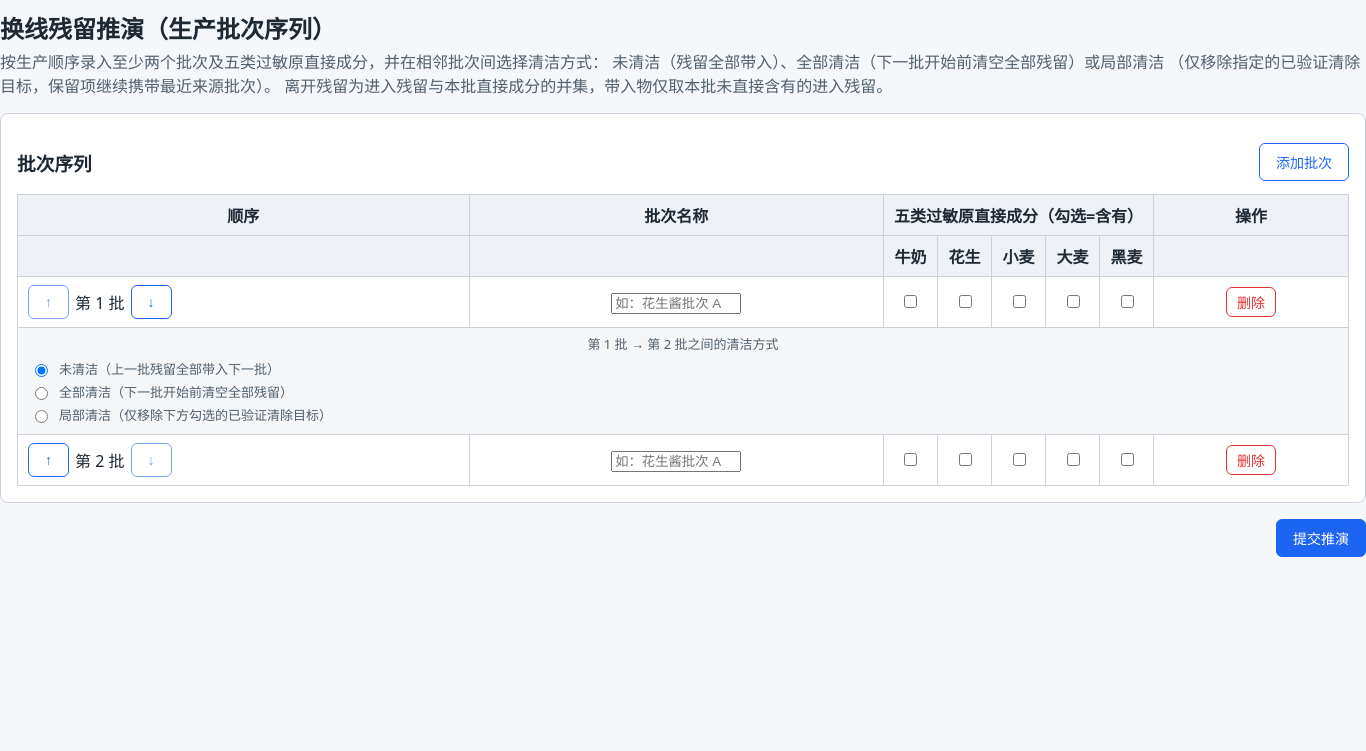
Test: 换线残留推演：提交与逐批结果 › 清洁归零：经验证清洁后后续批次不再显示任何残留
Type "花生酱A" into the field with test id "co-batch-0-name" at {"x": 676, "y": 303}, box [611, 293, 741, 314]
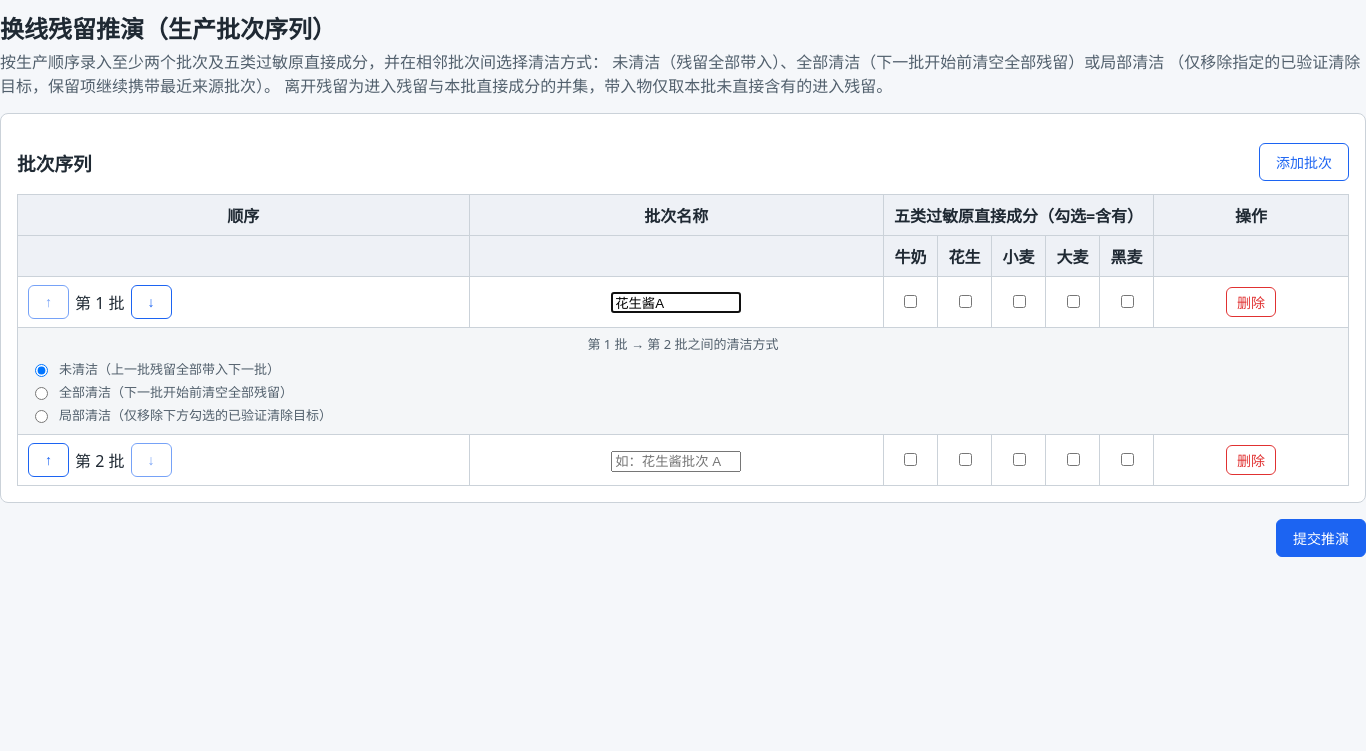
Click the checkbox with test id "co-batch-0-contains-peanut" at {"x": 965, "y": 302}, box [958, 295, 972, 308]
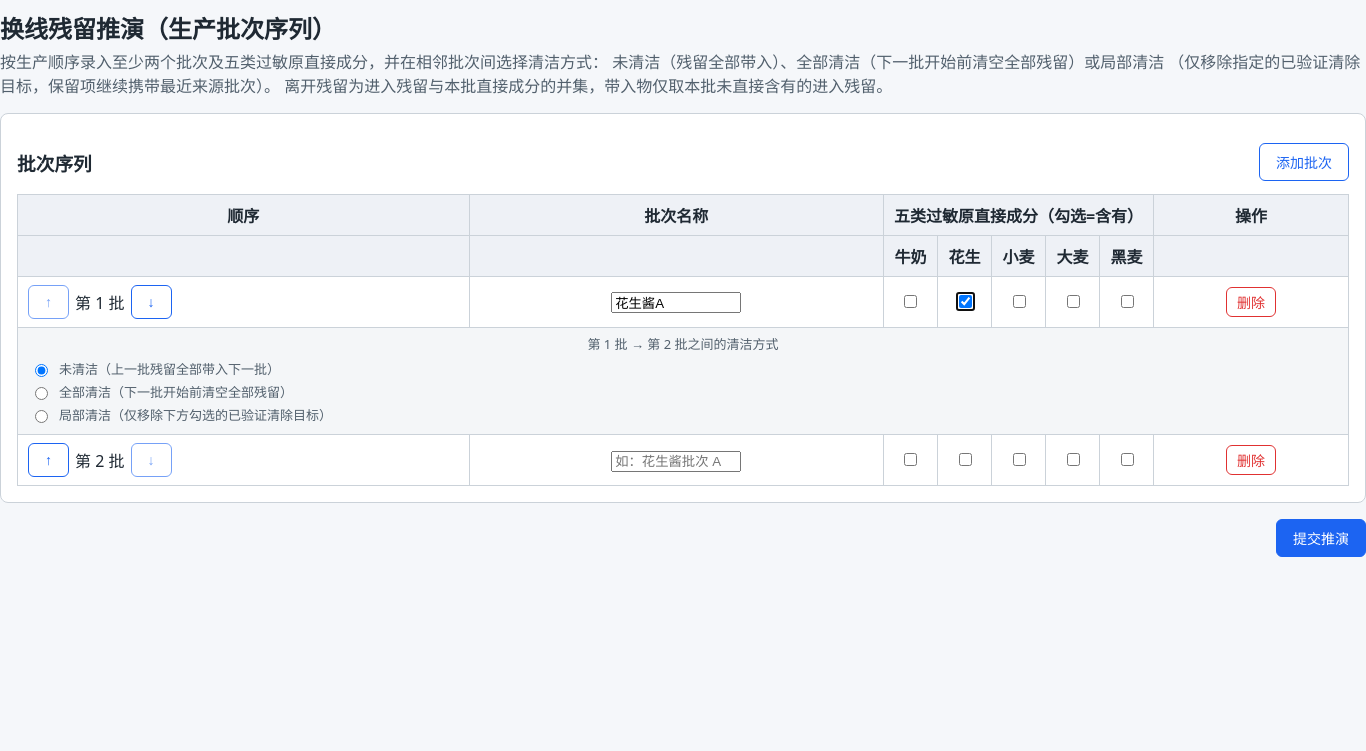
Click the checkbox with test id "co-batch-0-contains-wheat" at {"x": 1019, "y": 302}, box [1012, 295, 1026, 308]
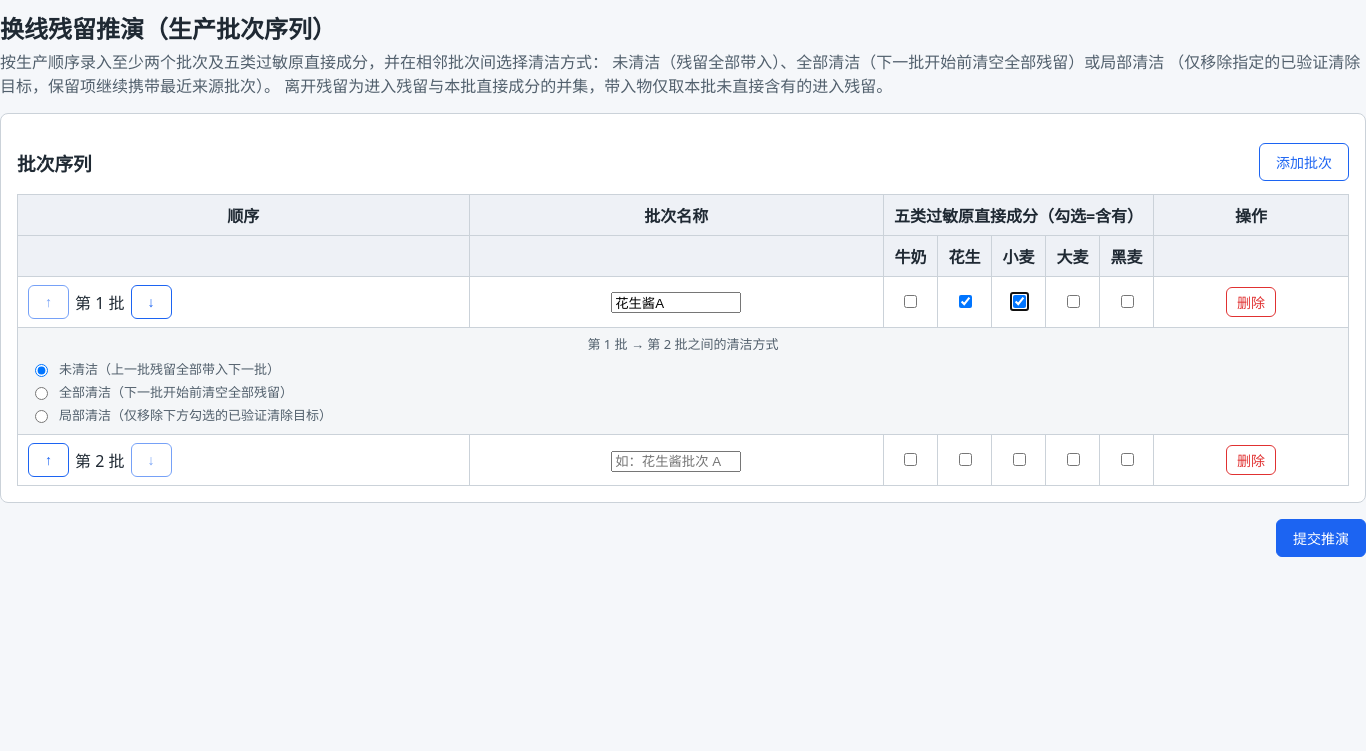
Type "清洁后B" into the field with test id "co-batch-1-name" at {"x": 676, "y": 461}, box [611, 451, 741, 472]
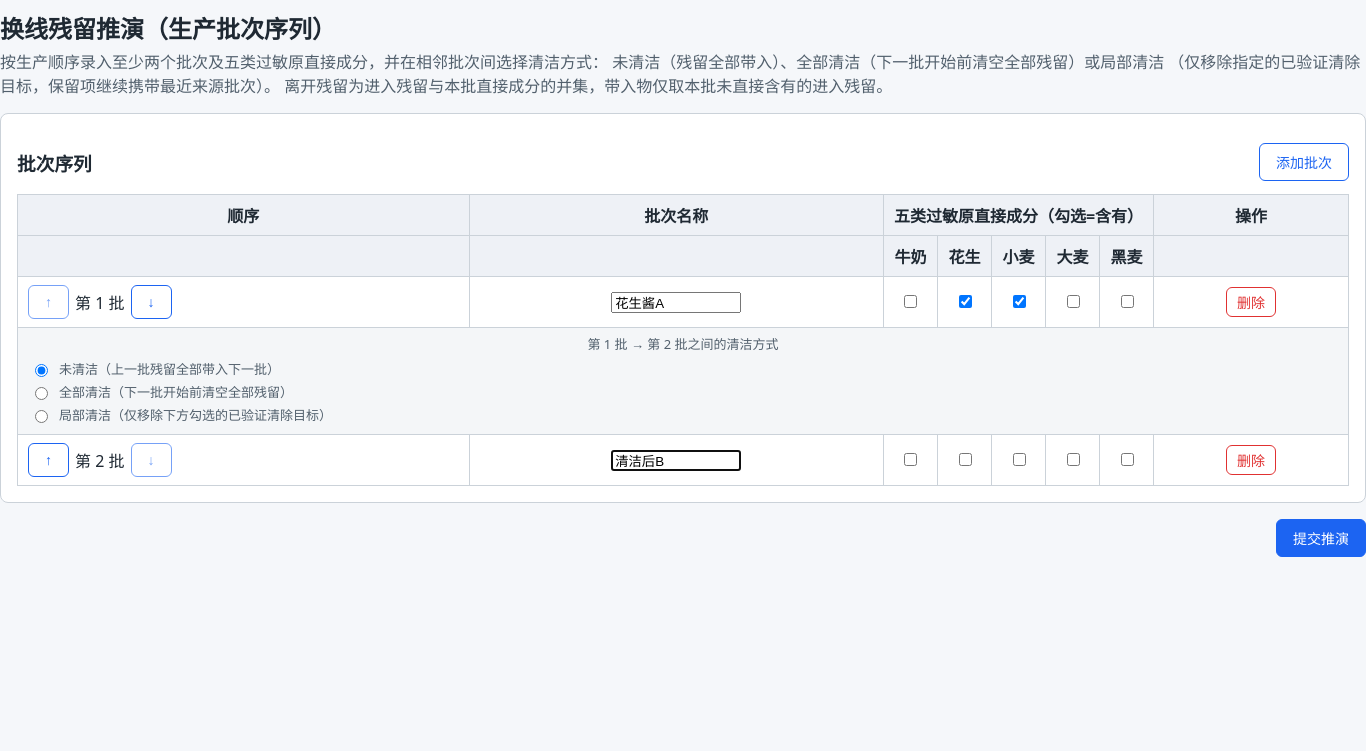
// 标记两批之间已完成全部经验证清洁
Click the radio button with test id "co-boundary-0-mode-full" at {"x": 42, "y": 393}, box [35, 387, 48, 400]
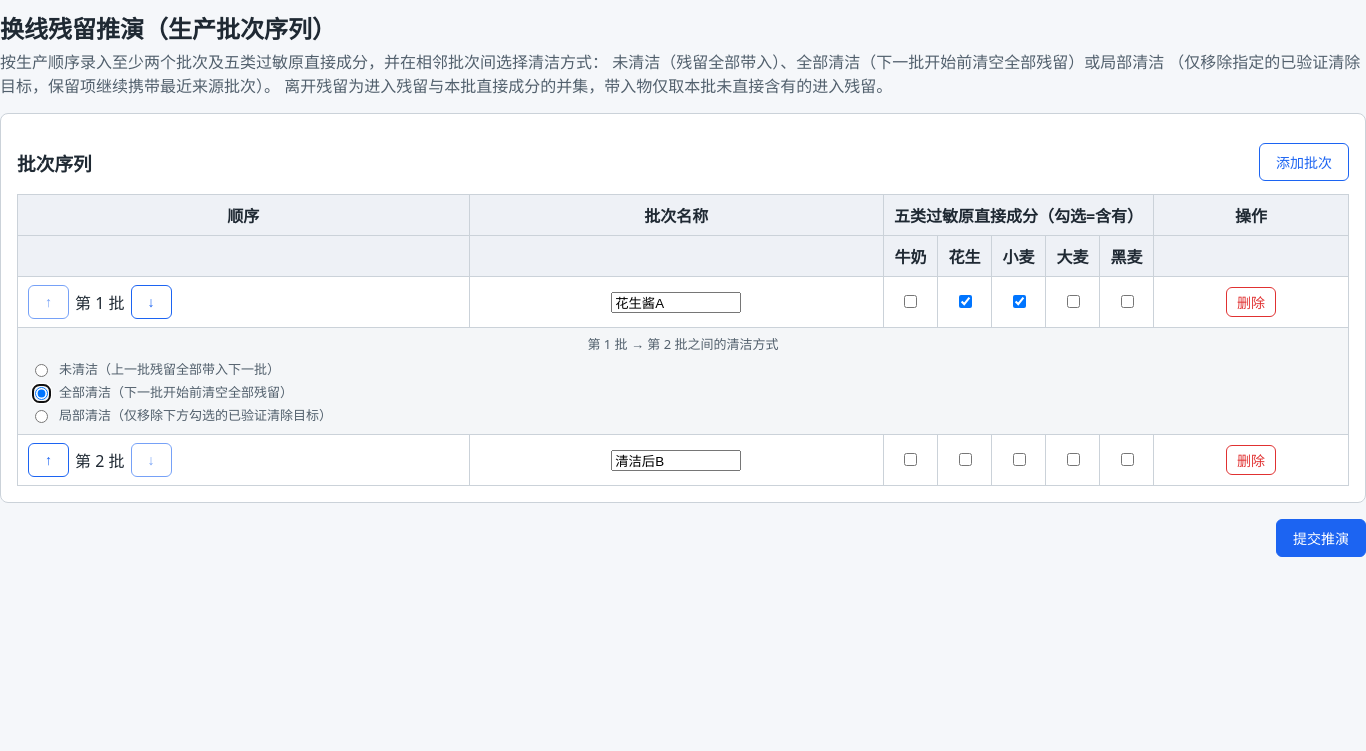
Click the button with test id "co-submit" at {"x": 1321, "y": 538}, box [1276, 519, 1365, 557]
(page scrolled)
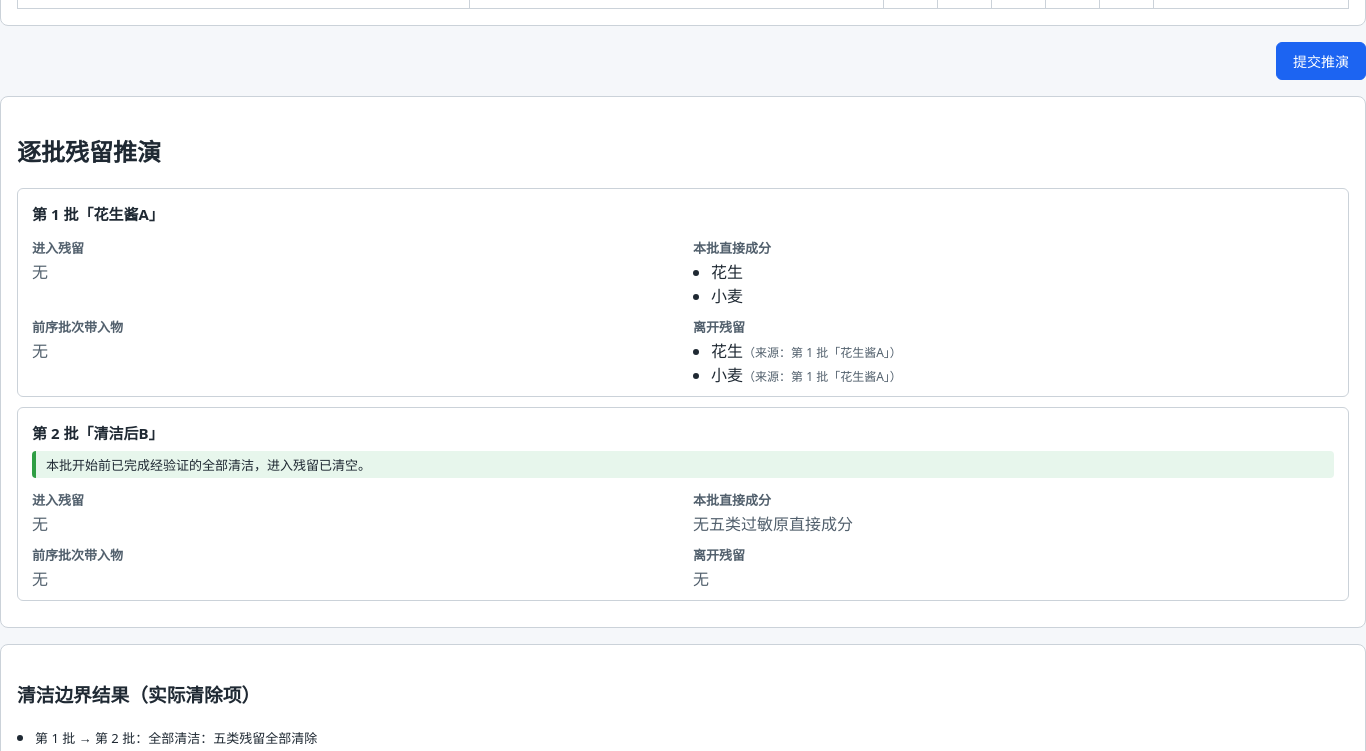
Now the element with test id "co-result" is shown
Now the text "本批开始前已完成经验证的全部清洁，进入残留已清空。" is shown, box [32, 451, 1334, 478]
Now the list with test id "co-batch-1-incoming" reads "无", box [32, 513, 48, 535]
